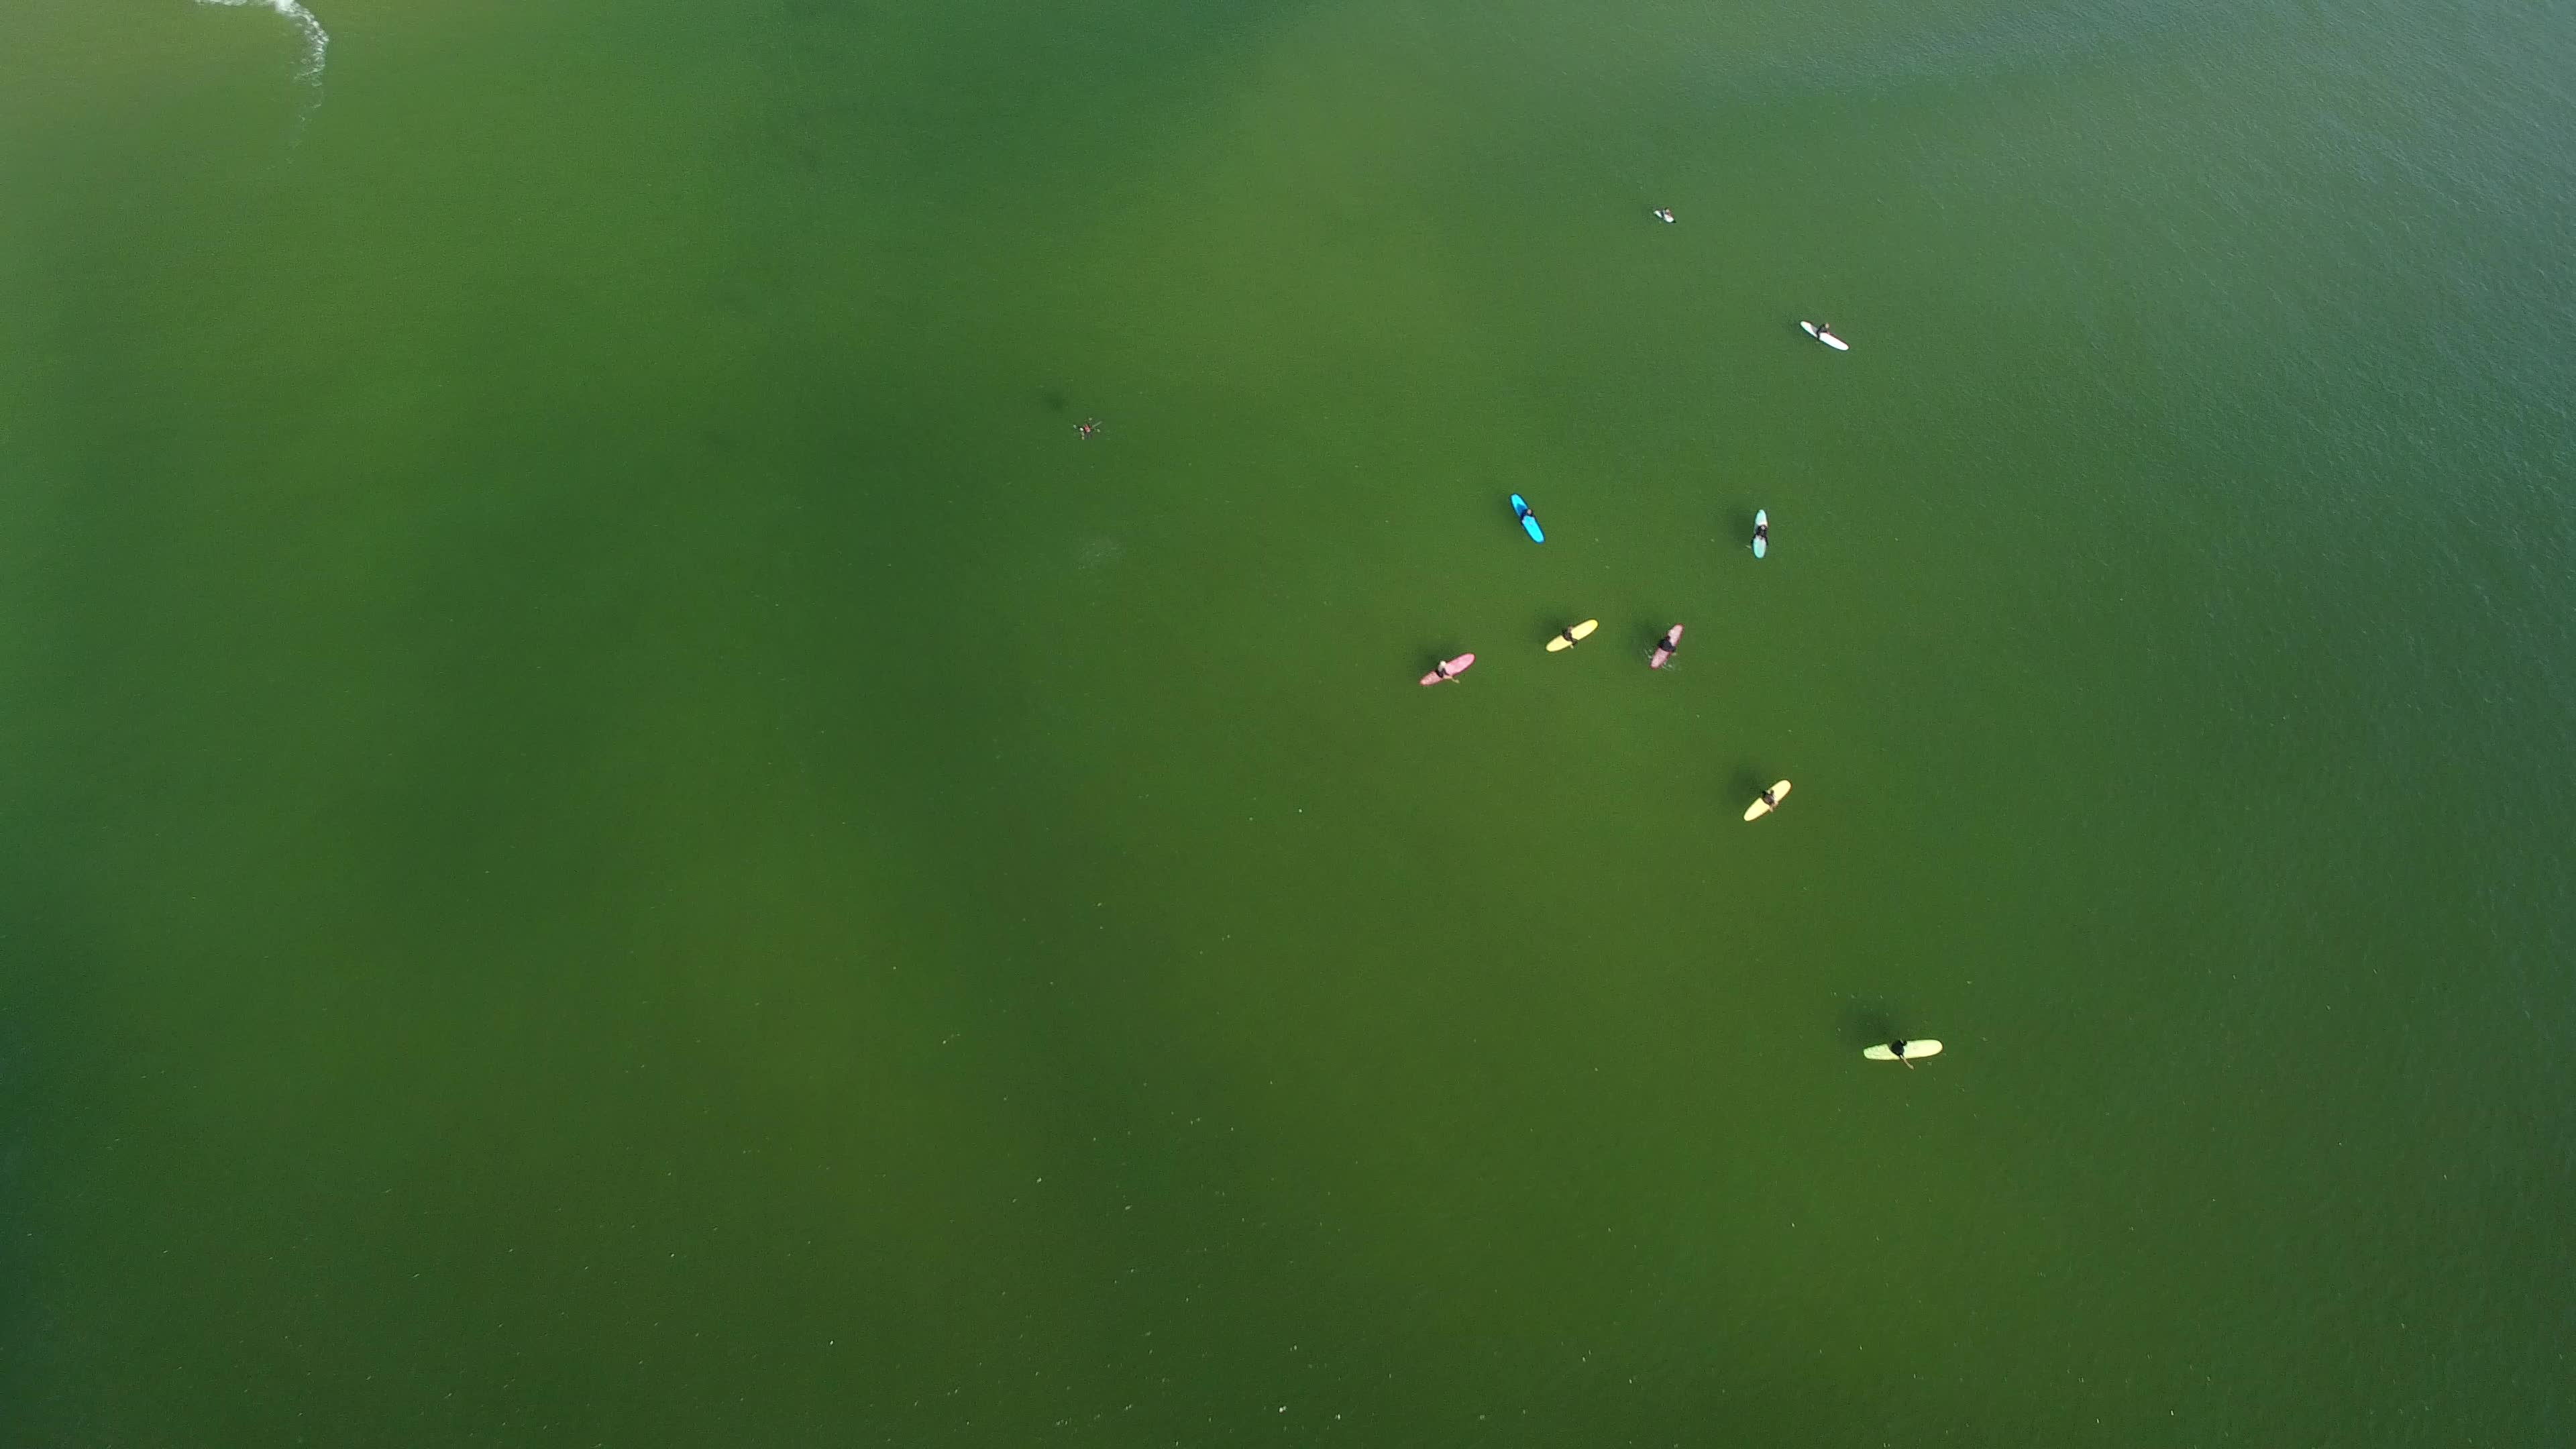surfer: (1787, 304, 1865, 357), (1414, 646, 1490, 697), (1734, 780, 1799, 832), (1499, 488, 1557, 545), (1865, 1033, 1948, 1072), (1541, 609, 1603, 660), (1642, 621, 1691, 685), (1741, 499, 1780, 564)
